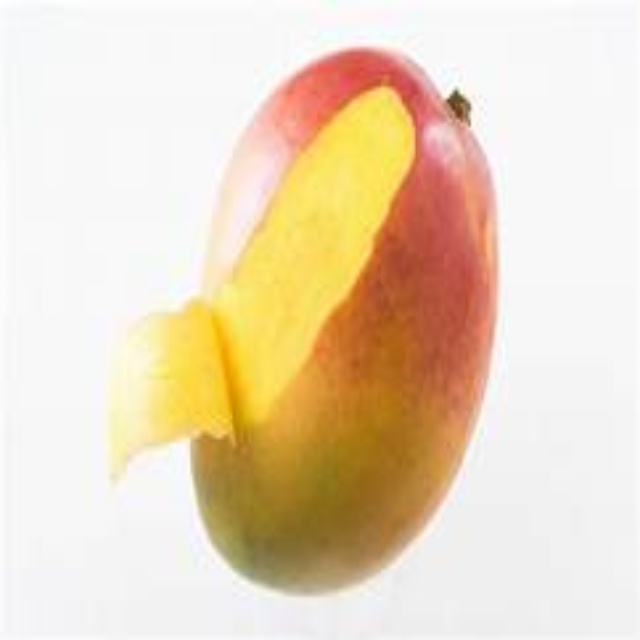mango: (177, 44, 499, 606)
